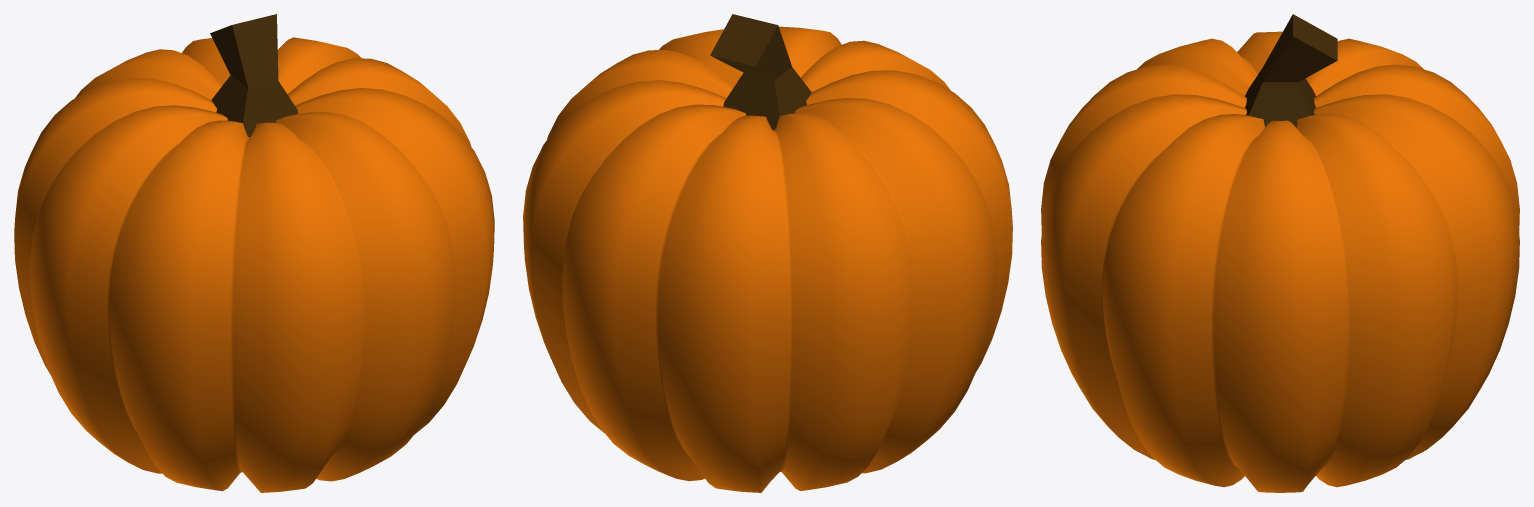
File: pumpkin.gltf
3 renders of one model, left to right at view 1: azimuth 30°, elevation 25°; view 2: azimuth 150°, elevation 25°; view 3: azimuth 270°, elevation 25°, orthographic.
Visible parts, largest first — view 1: Circle, Cube; view 2: Circle, Cube; view 3: Circle, Cube.
Boxes of the visible parts, left/top/right/bottom form: Circle: left=14, top=37, right=494, bottom=492; Cube: left=210, top=14, right=298, bottom=137; Circle: left=523, top=26, right=1012, bottom=492; Cube: left=710, top=14, right=811, bottom=130; Circle: left=1041, top=31, right=1519, bottom=492; Cube: left=1245, top=14, right=1337, bottom=127.
Size of the model in its own units: 1.77 by 1.71 by 1.74.
